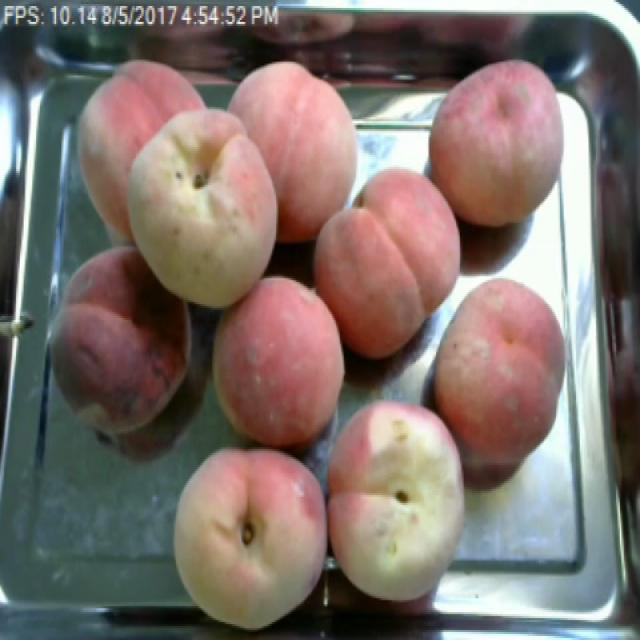Fruit: (116, 93, 291, 320), (33, 235, 207, 457), (300, 155, 473, 370), (420, 266, 580, 489), (162, 431, 330, 638), (325, 386, 480, 610), (197, 266, 360, 465), (217, 50, 376, 252), (419, 45, 580, 236)
